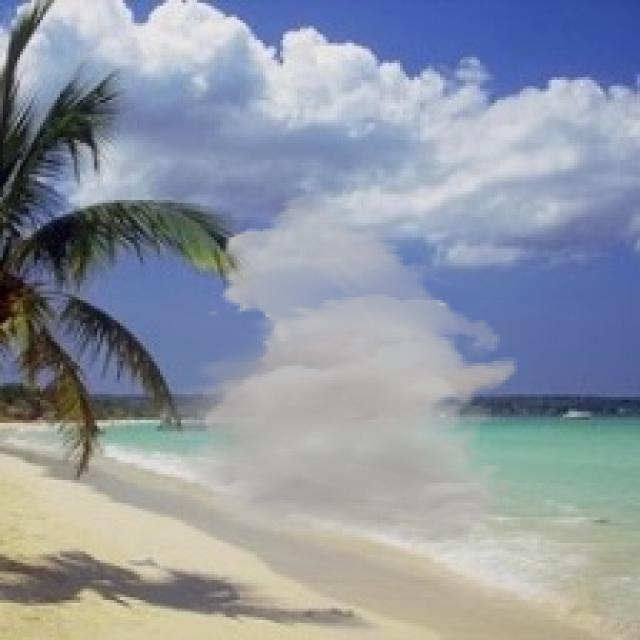Smoke: (140, 183, 520, 546)
